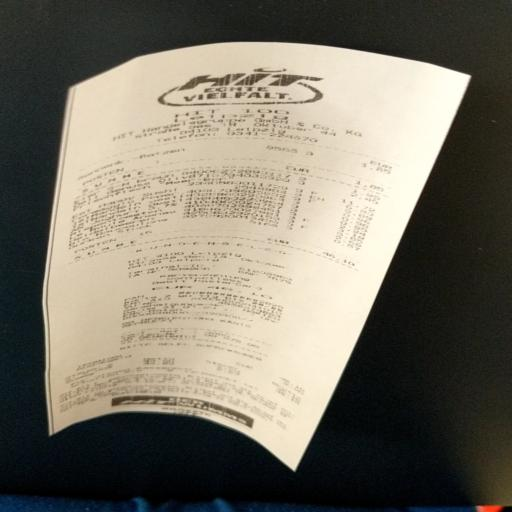paper: (35, 16, 502, 485)
